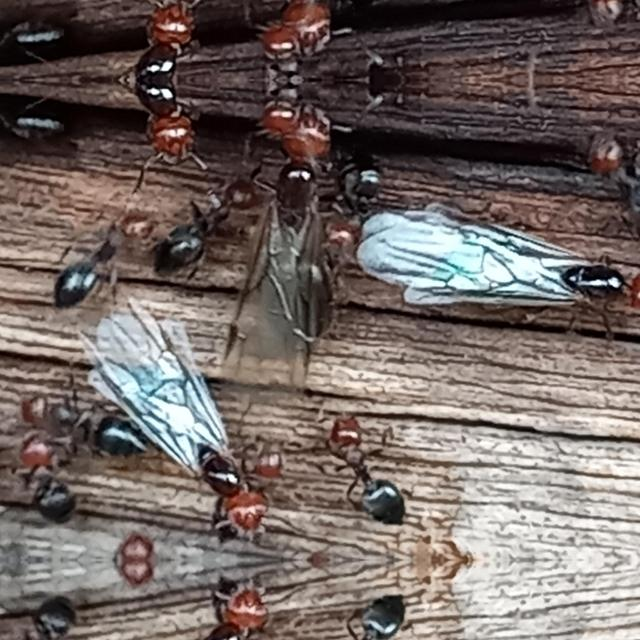Crematogaster: (88, 295, 276, 535), (350, 210, 640, 360), (216, 113, 344, 361), (162, 166, 252, 284), (87, 585, 276, 640), (64, 200, 146, 318), (315, 414, 395, 530), (23, 388, 146, 458), (112, 80, 208, 164), (111, 0, 208, 80), (8, 438, 92, 522), (592, 136, 640, 224), (315, 590, 395, 640), (8, 598, 92, 640), (592, 0, 639, 24)
